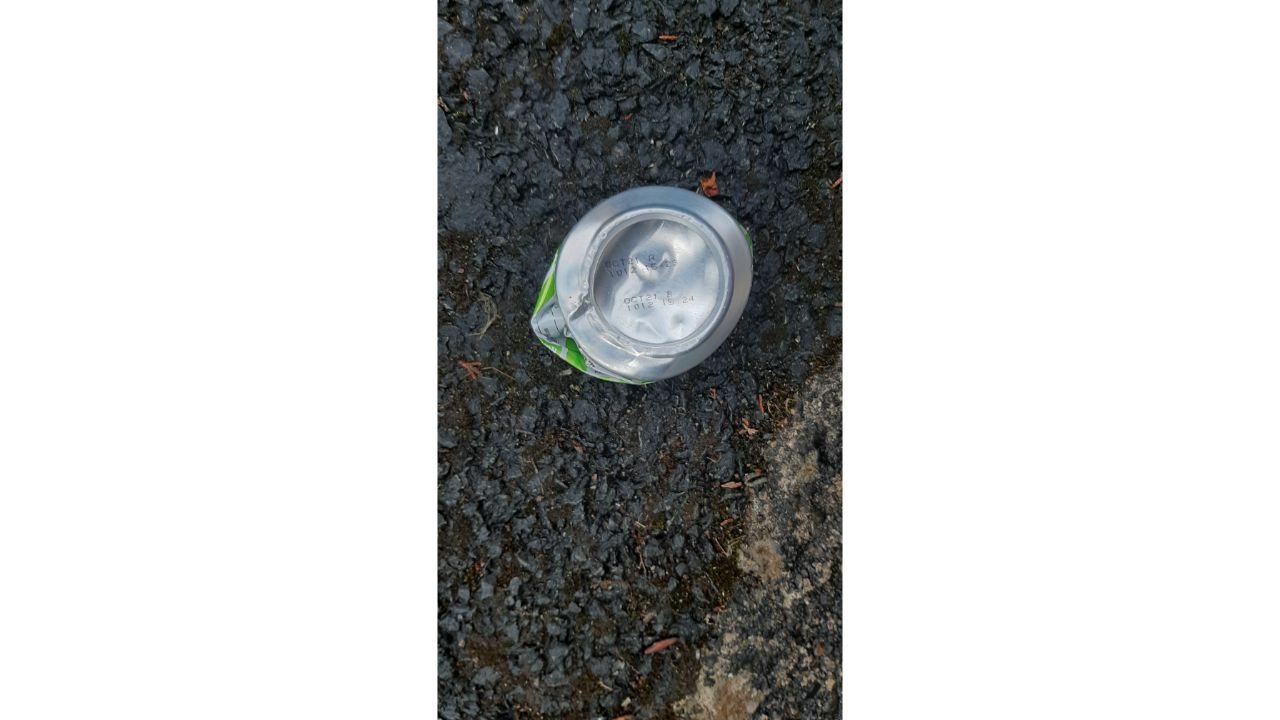Can: (529, 186, 754, 387)
